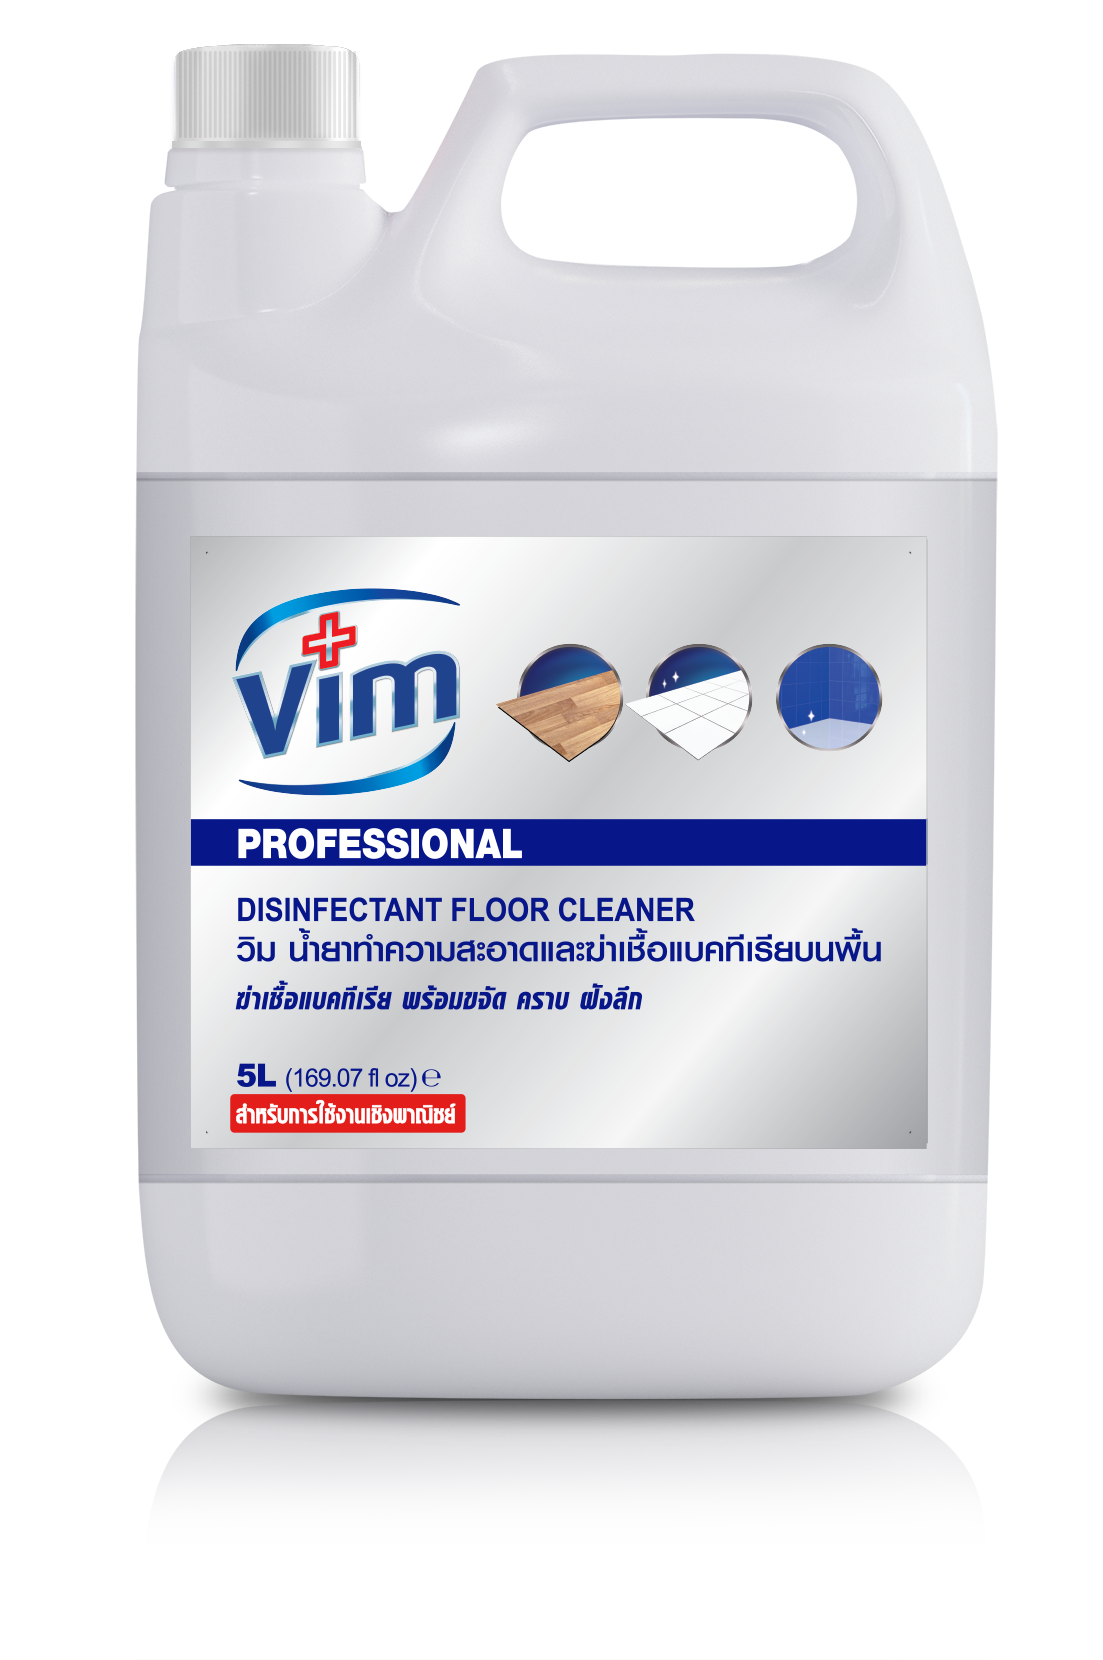Cleaning_solution: (119, 18, 1011, 1447)
